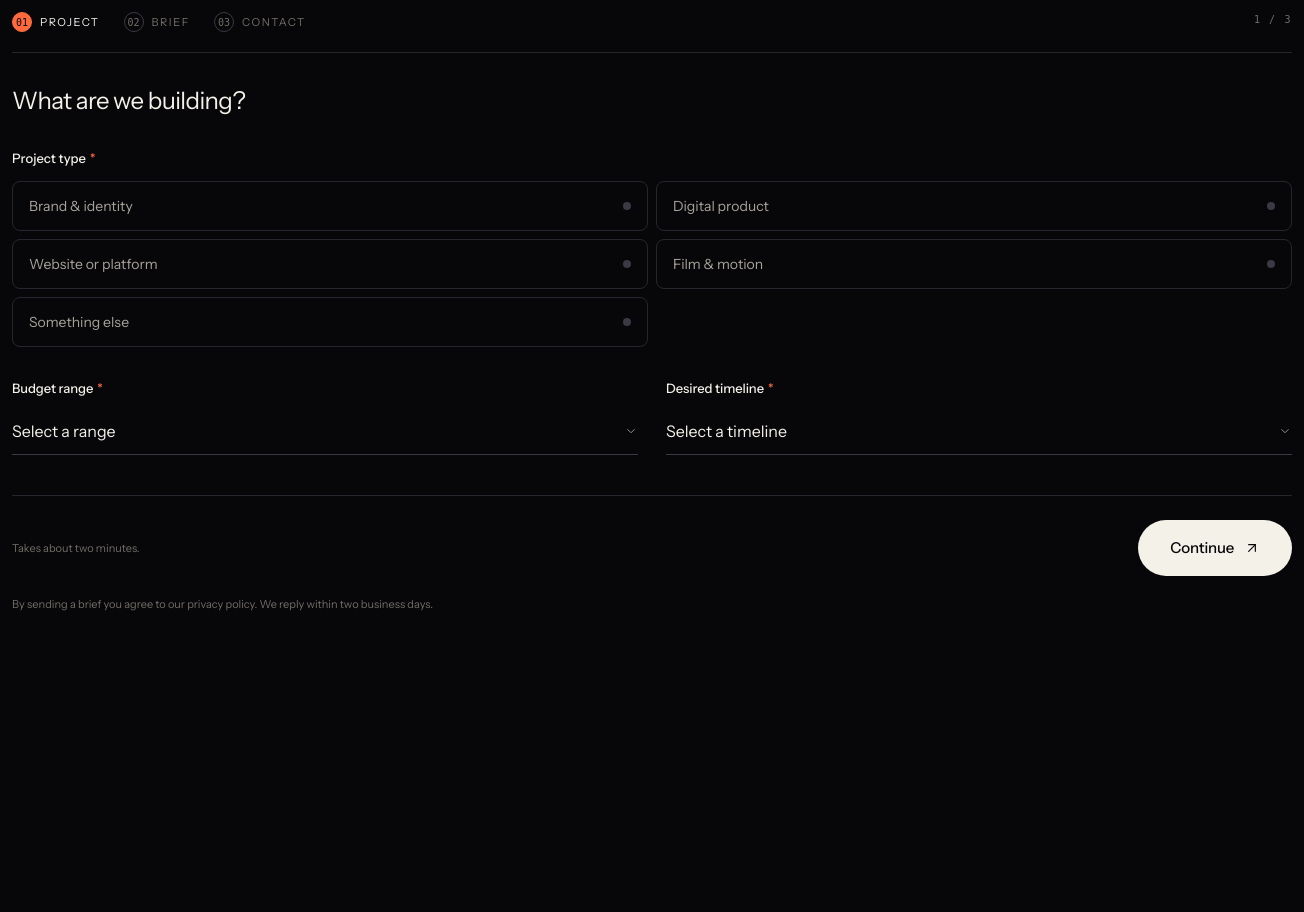
Test: ProjectInquiryForm › returns to the step with an error when contact details are missing
Click the radio button labelled "Brand & identity" at (81, 206), box [12,180,648,230]
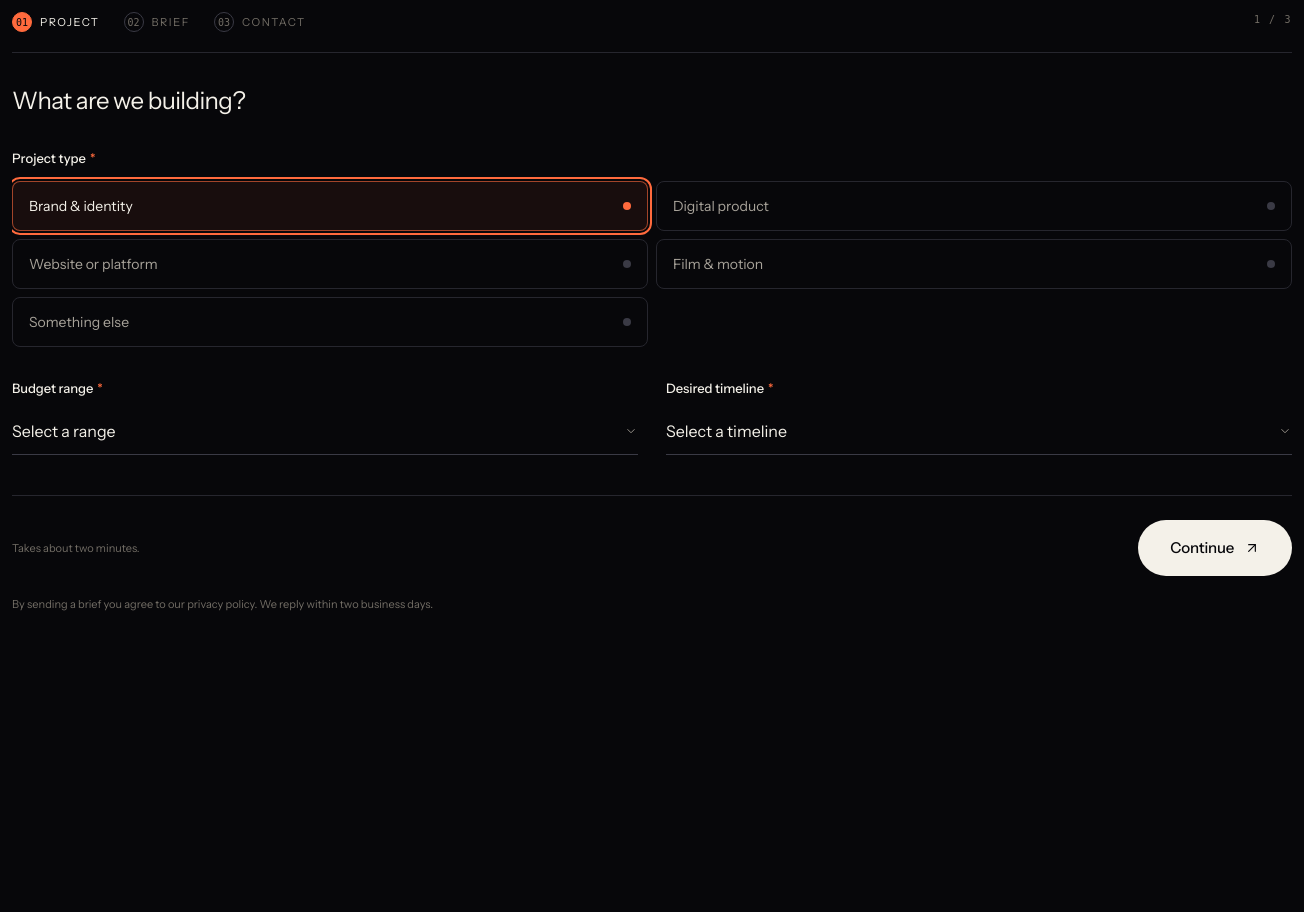
Select "Not sure yet" in the dropdown labelled "Budget range*" at (325, 432), box [12,408,638,455]
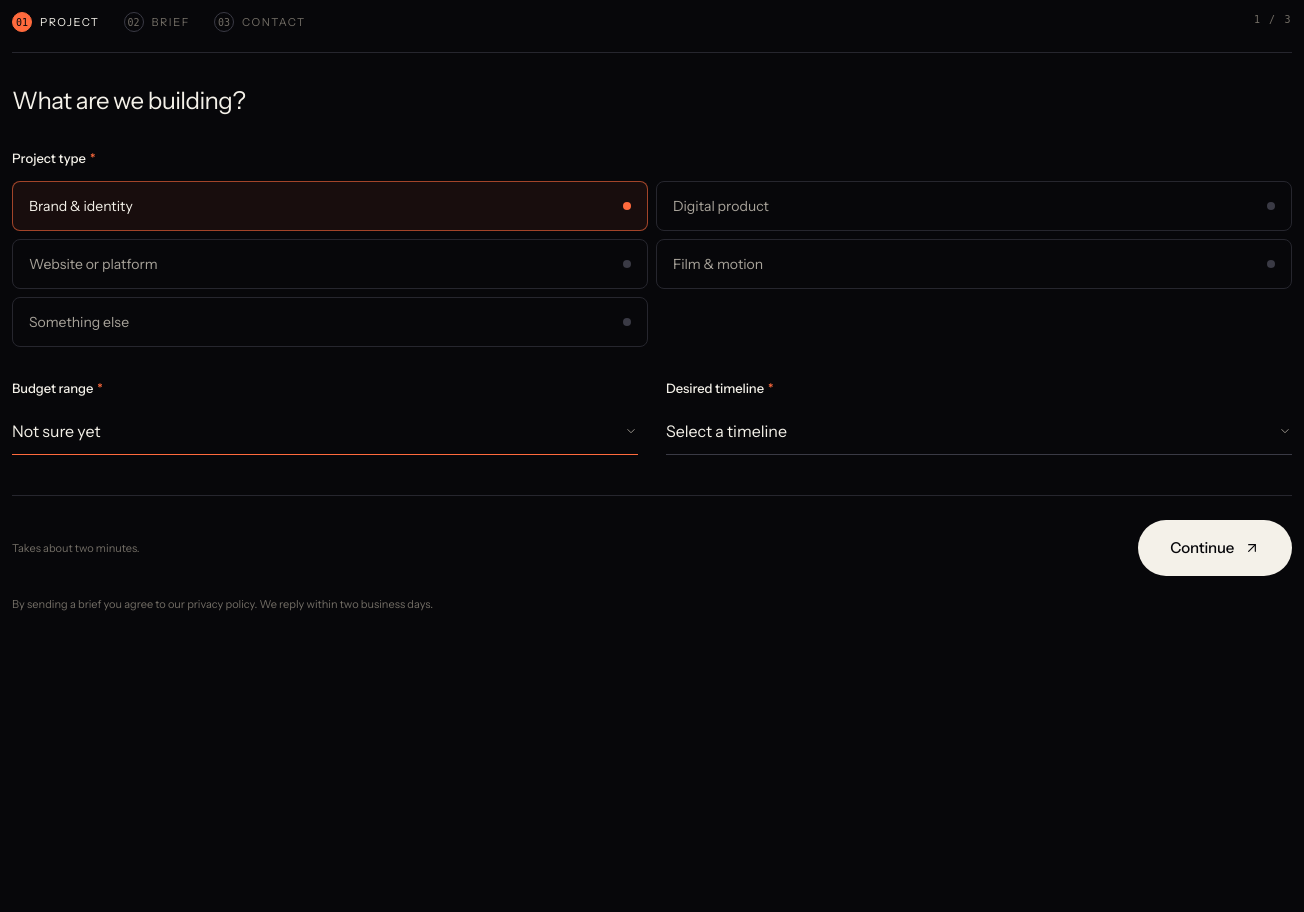
Select "Still exploring" in the dropdown labelled "Desired timeline*" at (979, 432), box [666,408,1292,455]
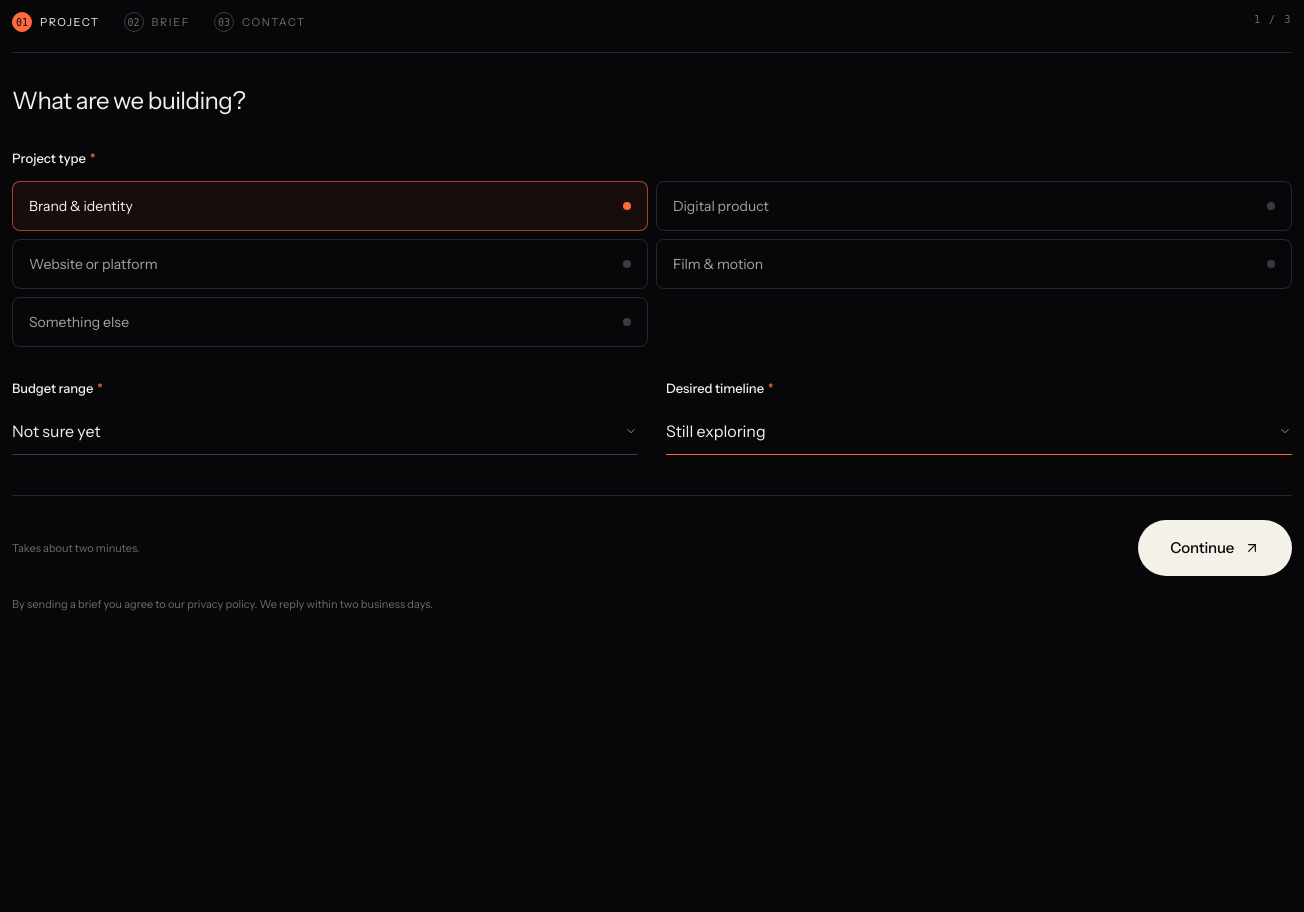
Click the button "Continue" at (1215, 548), box [1138,520,1292,576]
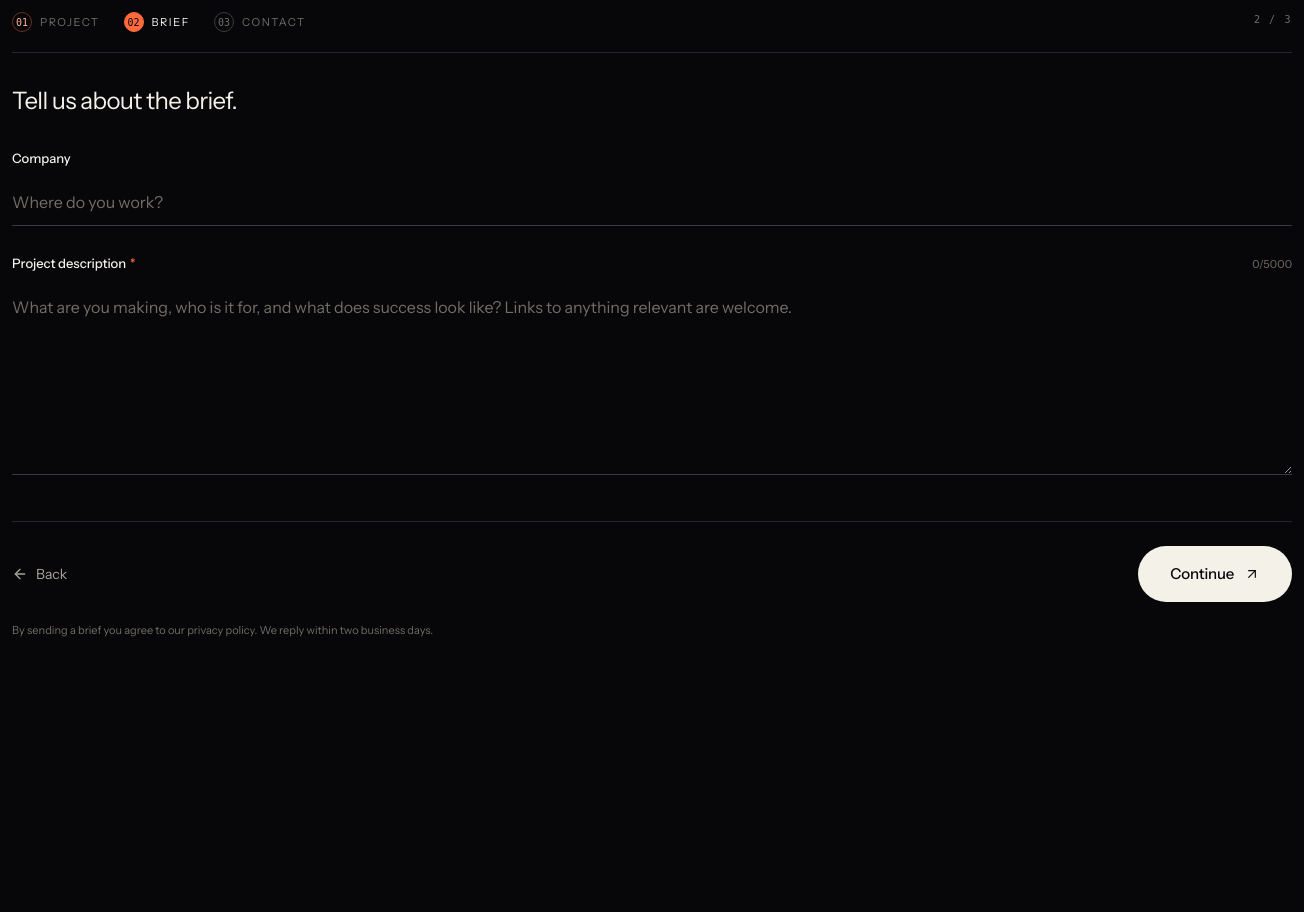
Type "A complete rebrand for a company preparing to launch a new product." into the text box labelled "Project description*" at (652, 379), box [12,283,1292,475]
Click the button "Continue" at (1215, 574), box [1138,546,1292,602]
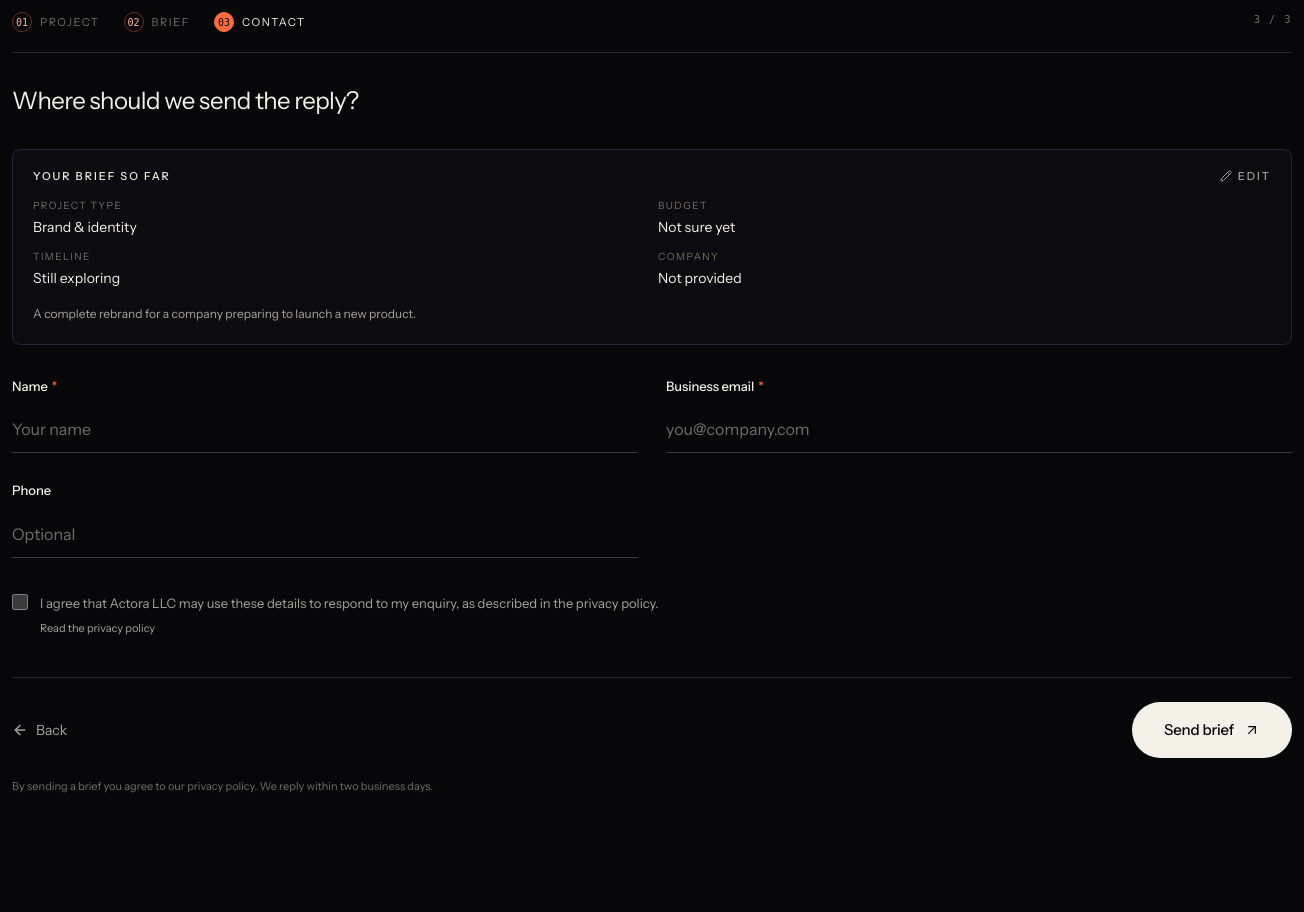
Click the button "Send brief" at (1212, 730), box [1132,702,1292,758]
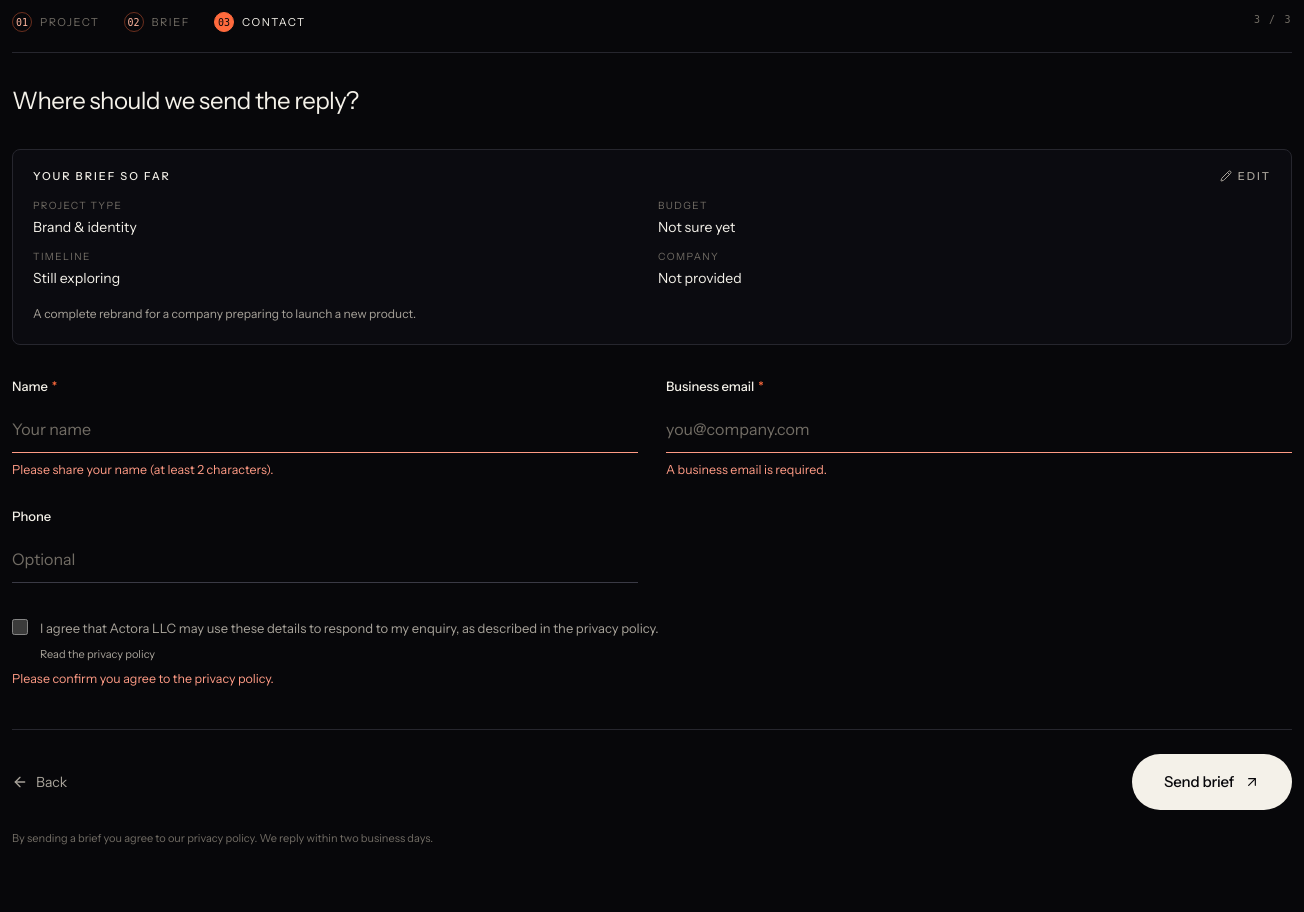
Check: the text "Please share your name (at least 2 characters)." is shown, box [12,462,274,477]
